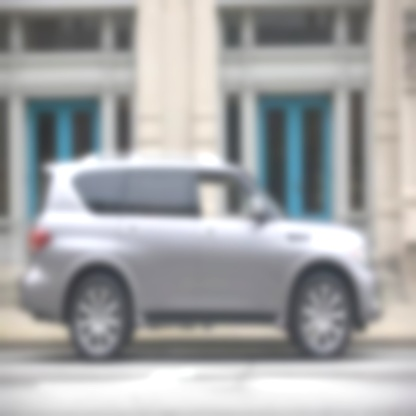Vehicle: (18, 155, 385, 361)
